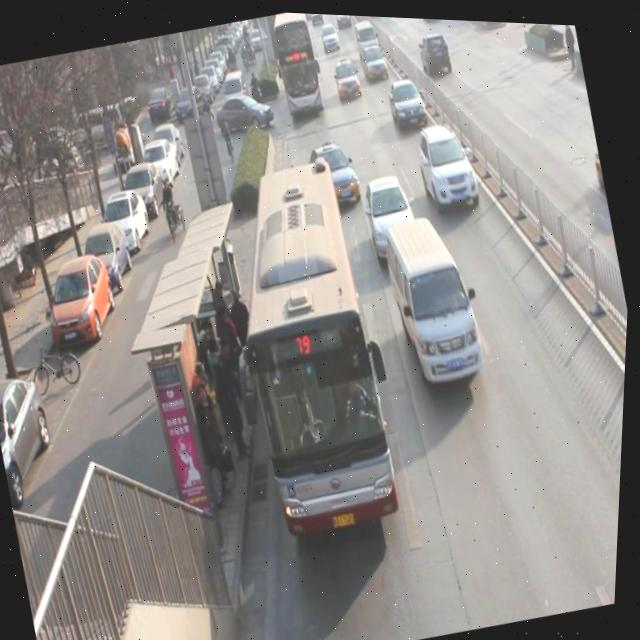car: (413, 115, 487, 215), (361, 169, 424, 252), (307, 134, 368, 212), (385, 72, 431, 129), (416, 25, 459, 79), (330, 53, 364, 99), (360, 39, 391, 77), (318, 20, 343, 54)
truck: (381, 211, 497, 392), (353, 14, 383, 61)
van: (204, 153, 418, 539), (265, 9, 325, 111)
